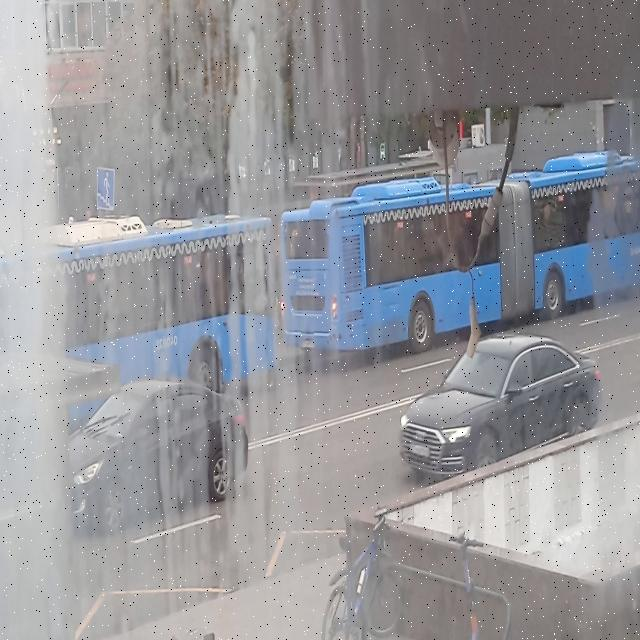bus: (276, 140, 640, 376), (0, 204, 271, 439)
